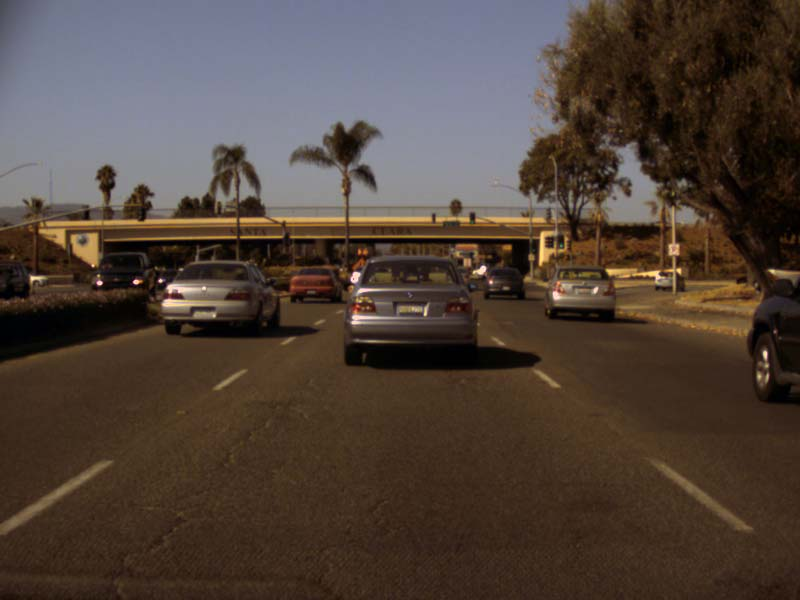Green: (557, 234, 563, 248), (469, 212, 475, 224), (530, 241, 535, 254)
